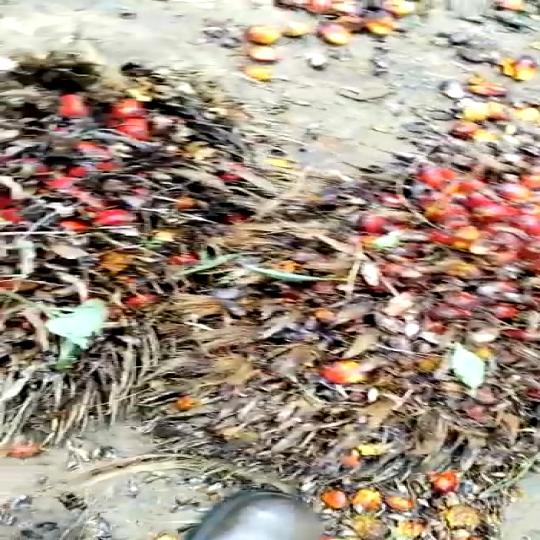terlalu masak: (176, 142, 540, 536), (0, 61, 291, 436)
